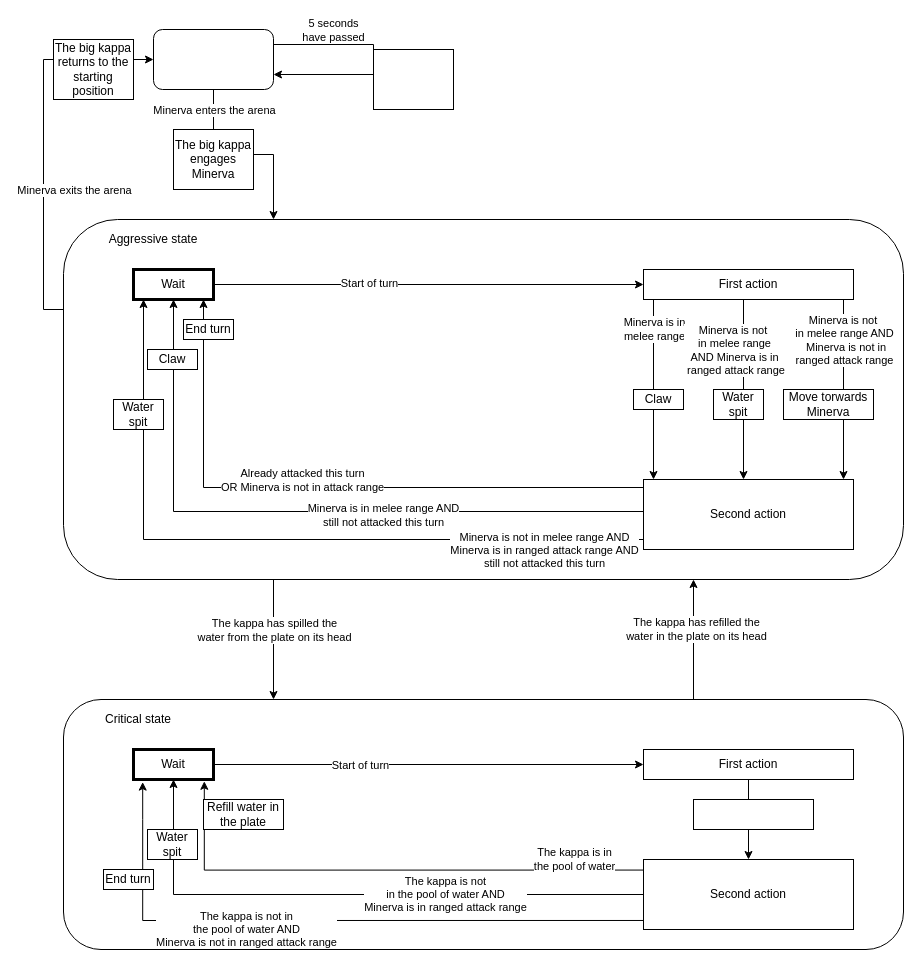
This 921x967 diagram has some shape labels left out. Here are the shapes that lost their labels. From the top down, the box of each, then its label:
(152, 28, 274, 90): Idle
(372, 48, 454, 110): Moves to an adjacent tile in a random direction
(692, 798, 814, 830): Move towards the closest pool of water
